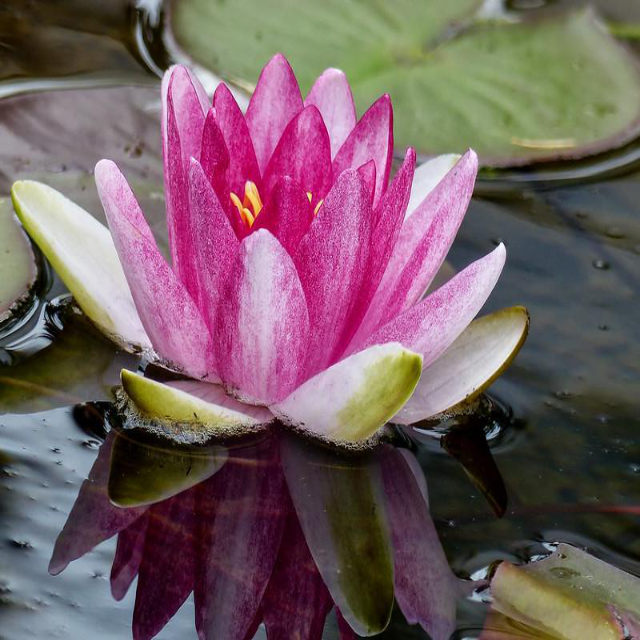water_lily: (10, 52, 535, 450)
